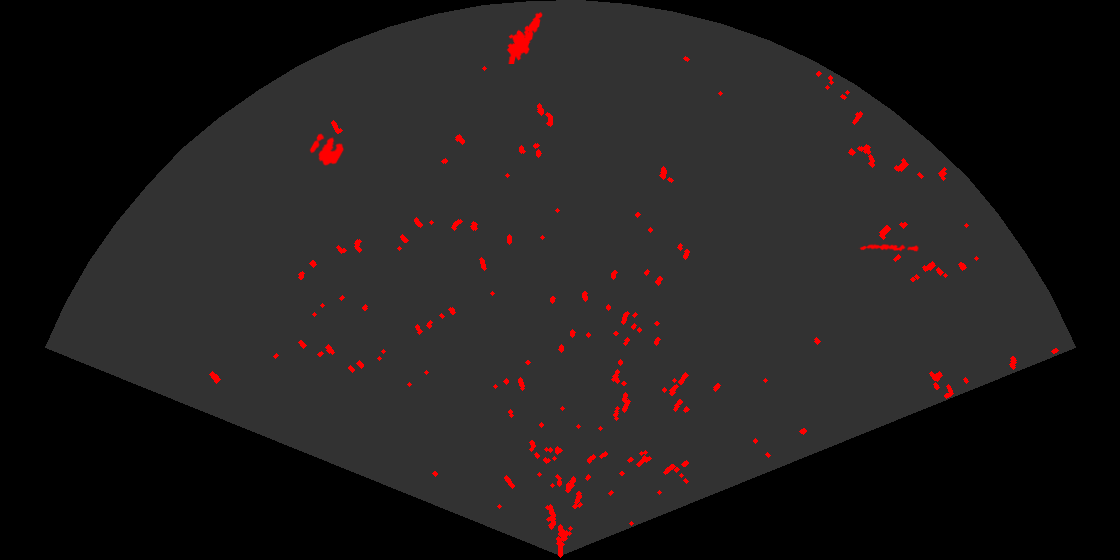ball: (308, 132, 346, 167)
chain: (858, 242, 919, 253)
frogman: (505, 10, 544, 64)
